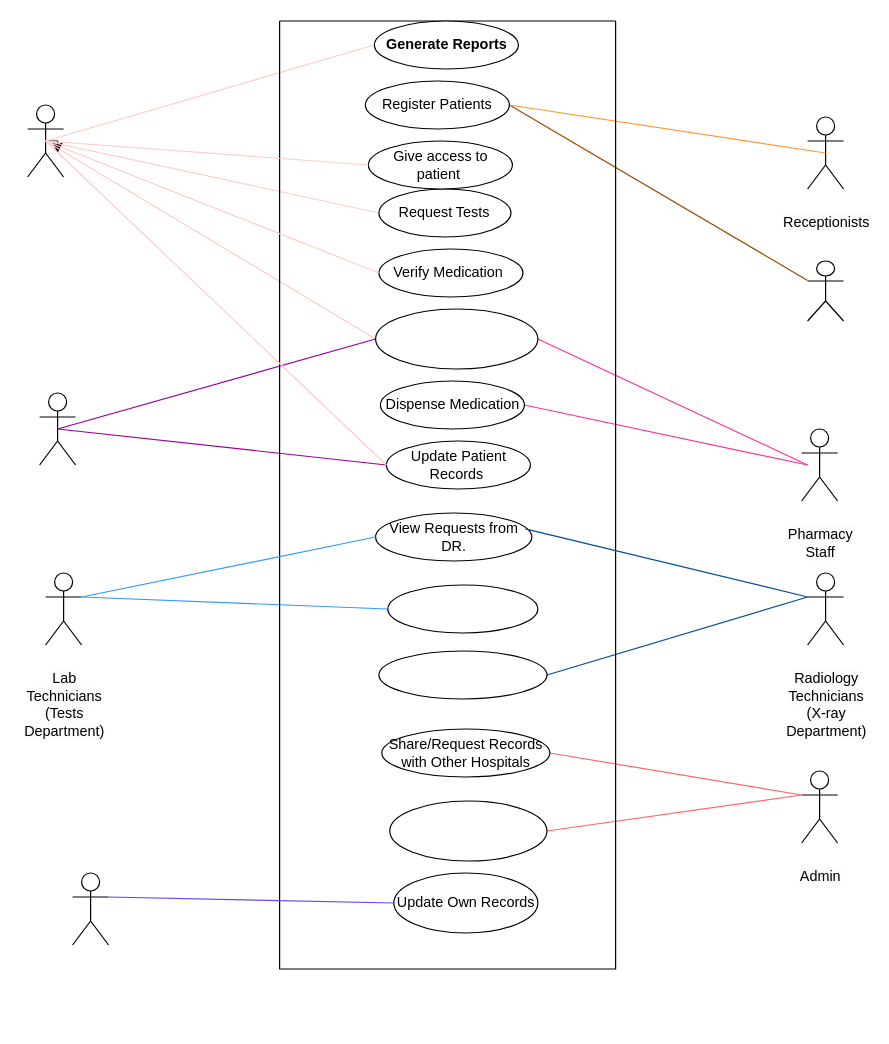
This 889x1044 diagram has some shape labels left out. Each missing label, with the box of its shape:
Doctors: (26, 104, 64, 177)
External Hospital Staff: (806, 260, 844, 321)
Give access to the staff: (389, 800, 547, 861)
Nurses: (38, 392, 76, 465)
Patient: (71, 872, 109, 945)
Perform and Upload Imaging Results: (378, 650, 547, 699)
Perform and Upload Test Results: (387, 584, 538, 633)
Show Patient Record s/with limitation: (374, 308, 538, 369)
